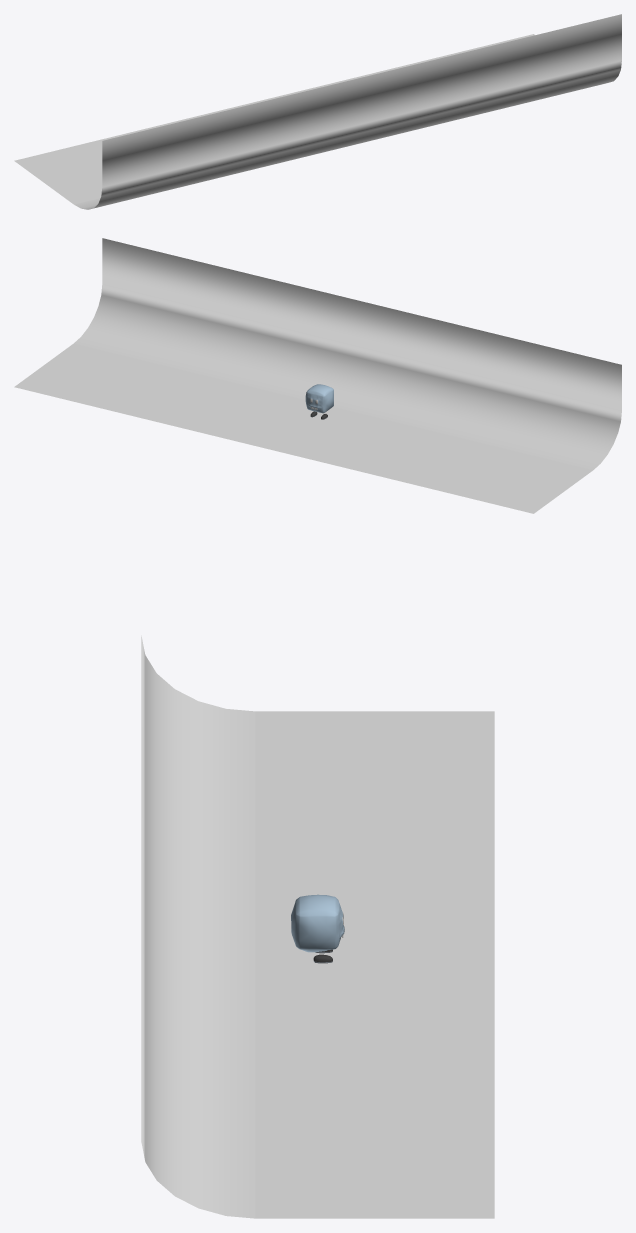
The picture shows the model from 3 angles, top to bottom: view 1: azimuth 30°, elevation 25°; view 2: azimuth 150°, elevation 25°; view 3: azimuth 270°, elevation 25°; orthographic projection. The views are drawn at different scales.
Visible parts, largest first — view 1: Ground; view 2: Ground, Body; view 3: Ground, Body.
Boxes of the visible parts, box(x1,y1,x2,y2) form: Ground: box(14, 14, 621, 209); Ground: box(14, 238, 621, 513); Body: box(305, 384, 333, 413); Ground: box(141, 635, 494, 1218); Body: box(291, 894, 344, 952).
Bounding box in the file's own units: 5759 × 1694 × 895.
